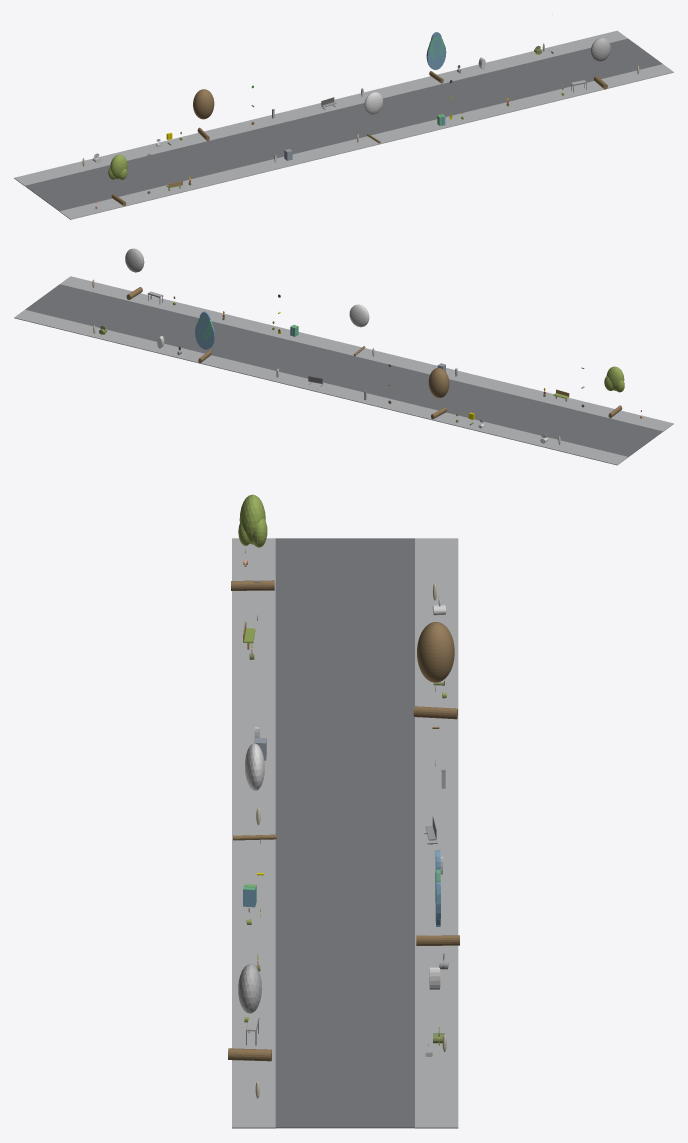
3 renders of one model, top to bottom at view 1: azimuth 30°, elevation 25°; view 2: azimuth 150°, elevation 25°; view 3: azimuth 270°, elevation 25°, orthographic. The views are drawn at different scales.
Parts seen in each view (by area): view 1: road_slab, sidewalk_left, sidewalk_right, inst_0015, inst_0013, inst_0012, inst_0016, inst_0014; view 2: road_slab, sidewalk_right, sidewalk_left, inst_0015, inst_0013, inst_0012, inst_0016, inst_0014; view 3: road_slab, sidewalk_left, sidewalk_right, inst_0013, inst_0012, inst_0016, inst_0014, inst_0015.
Part boxes in pixels (x1,y1,x2,y2): road_slab: (25, 38, 662, 211); sidewalk_left: (59, 64, 673, 219); sidewalk_right: (14, 30, 627, 185); inst_0015: (426, 32, 446, 83); inst_0013: (193, 89, 214, 141); inst_0012: (108, 154, 127, 206); inst_0016: (590, 38, 610, 89); inst_0014: (364, 92, 383, 143); road_slab: (25, 284, 662, 456); sidewalk_right: (14, 309, 628, 465); sidewalk_left: (60, 276, 673, 431); inst_0015: (195, 311, 215, 363); inst_0013: (428, 368, 449, 419); inst_0012: (604, 366, 624, 418); inst_0016: (125, 248, 144, 299); inst_0014: (349, 304, 369, 356); road_slab: (275, 538, 414, 1128); sidewalk_left: (232, 538, 275, 1128); sidewalk_right: (415, 538, 458, 1128); inst_0013: (413, 622, 457, 719); inst_0012: (231, 494, 274, 590); inst_0016: (228, 964, 271, 1061); inst_0014: (233, 743, 276, 840); inst_0015: (416, 850, 459, 945).
Size of the model in its own units: 80 by 6.08 by 13.32.
